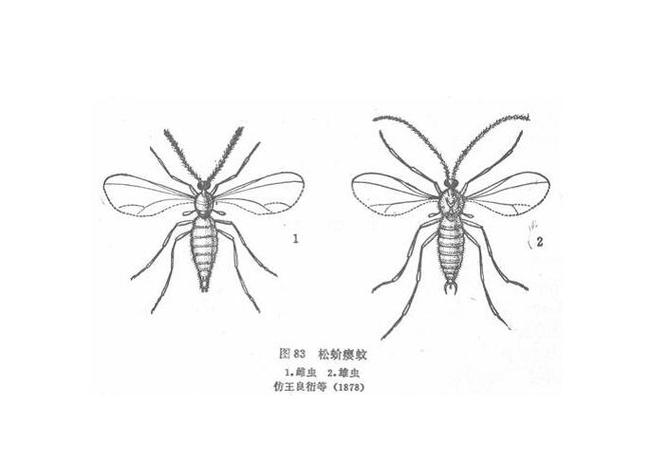Cecidomyiidae: (352, 108, 559, 344), (98, 122, 307, 318)
